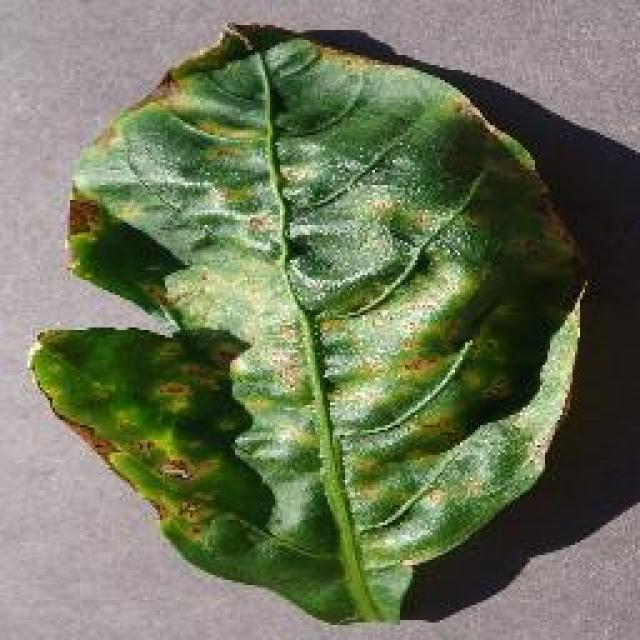Chilli_Bacterial_Spot: (25, 20, 590, 628), (25, 320, 270, 545), (63, 192, 105, 242), (153, 453, 195, 485), (152, 375, 192, 403)
